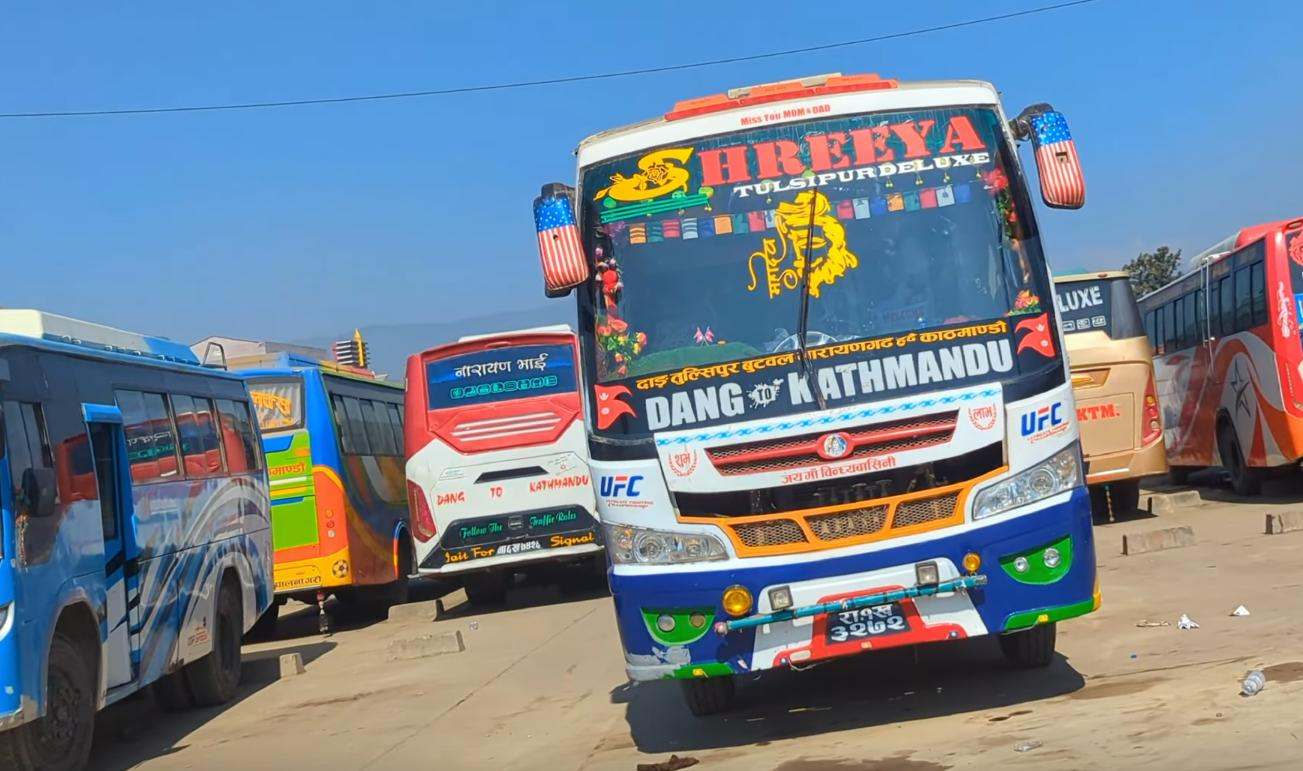bus: (516, 53, 1097, 743), (390, 326, 626, 593), (1130, 208, 1303, 511)
